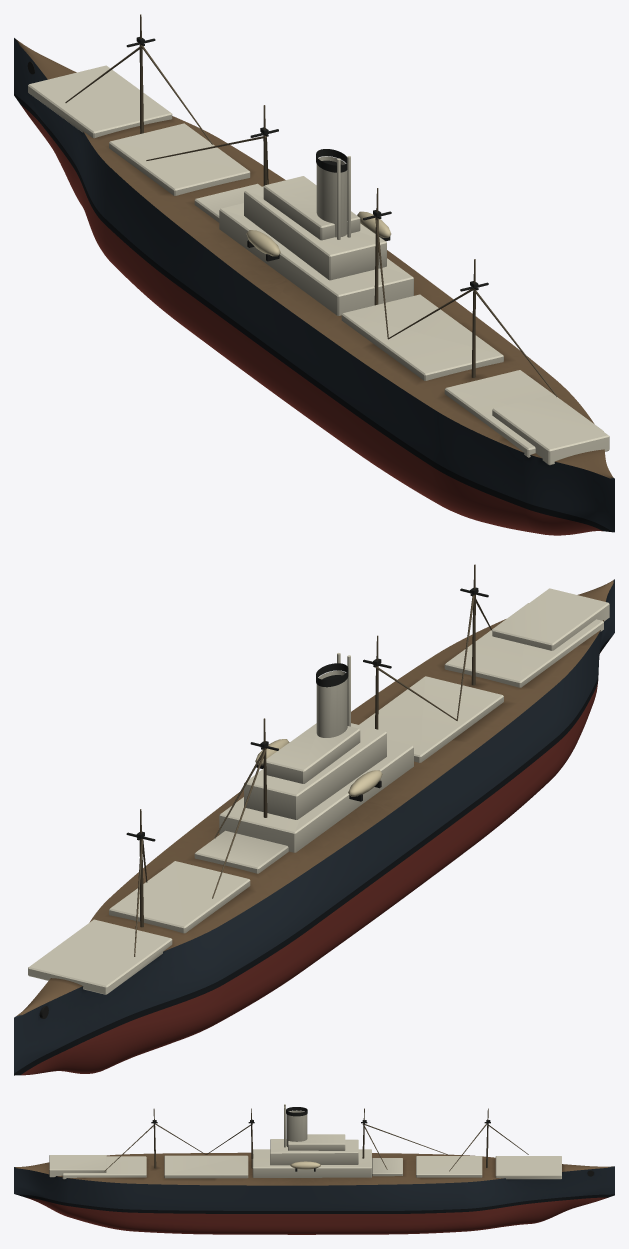
Rendered from ss-clan-macnab.glb.
3 views of the same model, one above another, from view 1: azimuth 30°, elevation 25°; view 2: azimuth 150°, elevation 25°; view 3: azimuth 270°, elevation 25° (orthographic). The views are drawn at different scales.
Parts seen in each view (by area): view 1: ss-clan-macnab; view 2: ss-clan-macnab; view 3: ss-clan-macnab.
Boxes of the visible parts, x1,y1,x2,y2 form: ss-clan-macnab: [14, 14, 614, 535]; ss-clan-macnab: [14, 564, 614, 1075]; ss-clan-macnab: [14, 1104, 614, 1234].
Size of the model in its own units: 17.7 by 29.25 by 136.
